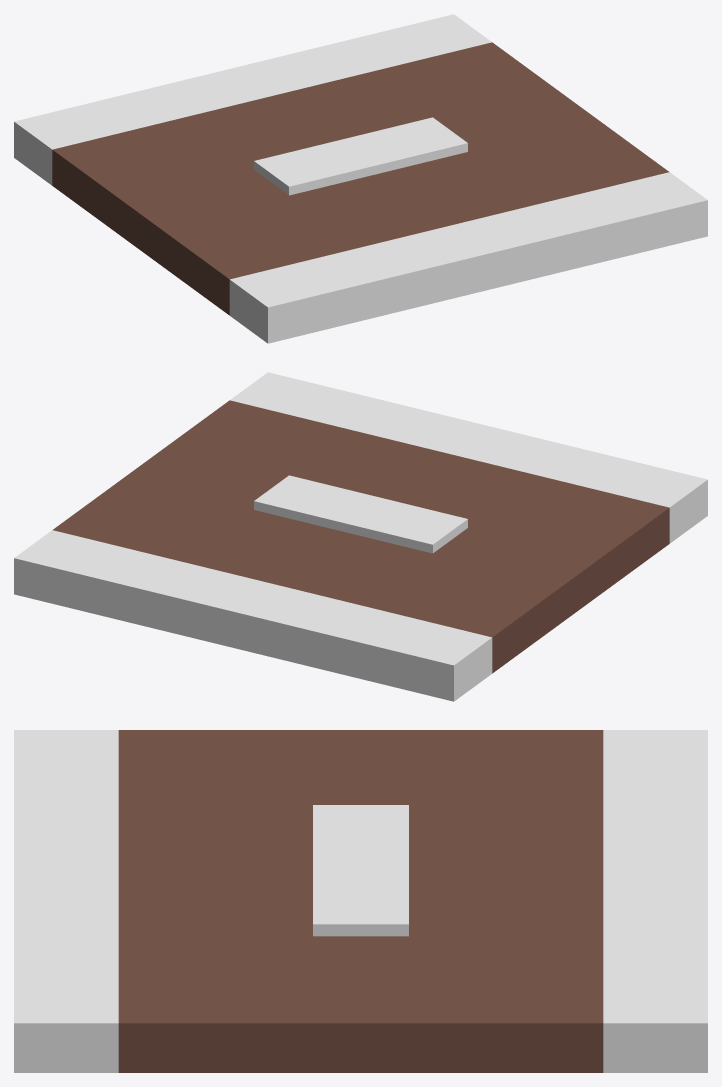
Rendered from Road.fbx.
The picture shows the model from 3 angles, top to bottom: view 1: azimuth 30°, elevation 25°; view 2: azimuth 150°, elevation 25°; view 3: azimuth 270°, elevation 25°; orthographic projection. The views are drawn at different scales.
Visible parts, largest first — view 1: Road; view 2: Road; view 3: Road.
Boxes of the visible parts, x1,y1,x2,y2 form: Road: (14, 14, 707, 343); Road: (14, 372, 707, 701); Road: (14, 730, 707, 1072).
Bounding box in the file's own units: 762 × 74.6 × 762.
